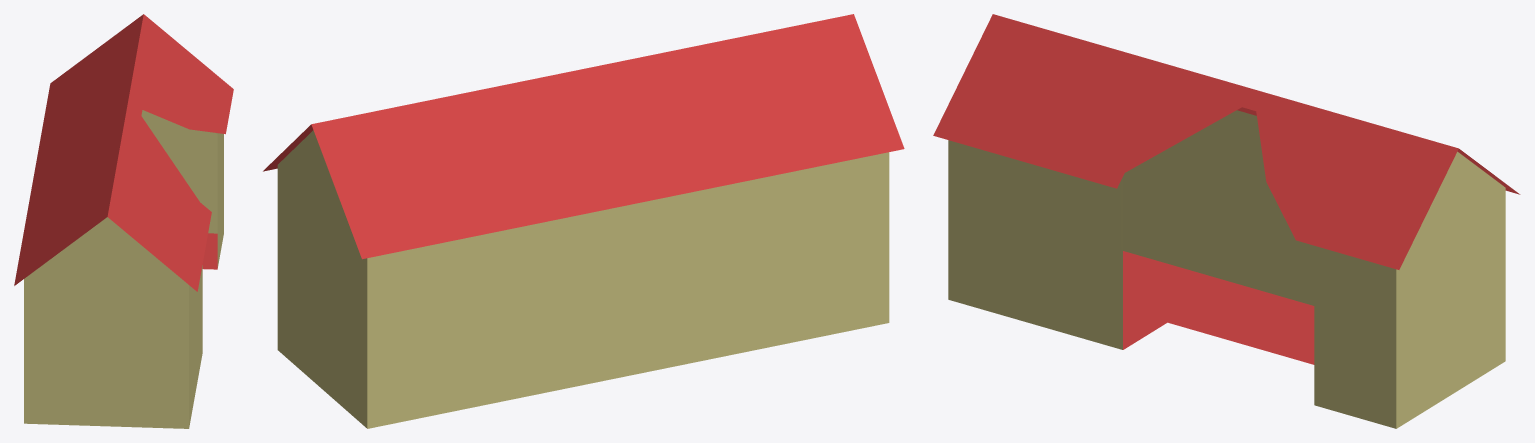
3 renders of one model, left to right at view 1: azimuth 30°, elevation 25°; view 2: azimuth 150°, elevation 25°; view 3: azimuth 270°, elevation 25°, orthographic. The views are drawn at different scales.
Size of the model in its own units: 22.88 by 27.1 by 12.72.
